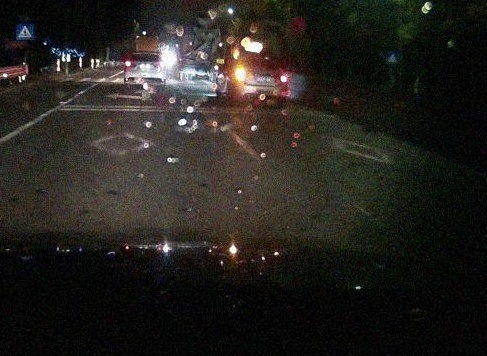L_light: (235, 71, 252, 78), (125, 62, 137, 67)
R_light: (273, 74, 286, 82), (152, 62, 164, 68)
T_light: (252, 59, 261, 62), (141, 53, 148, 56)
night-left: (234, 57, 287, 109)
night-no: (124, 52, 165, 85)
